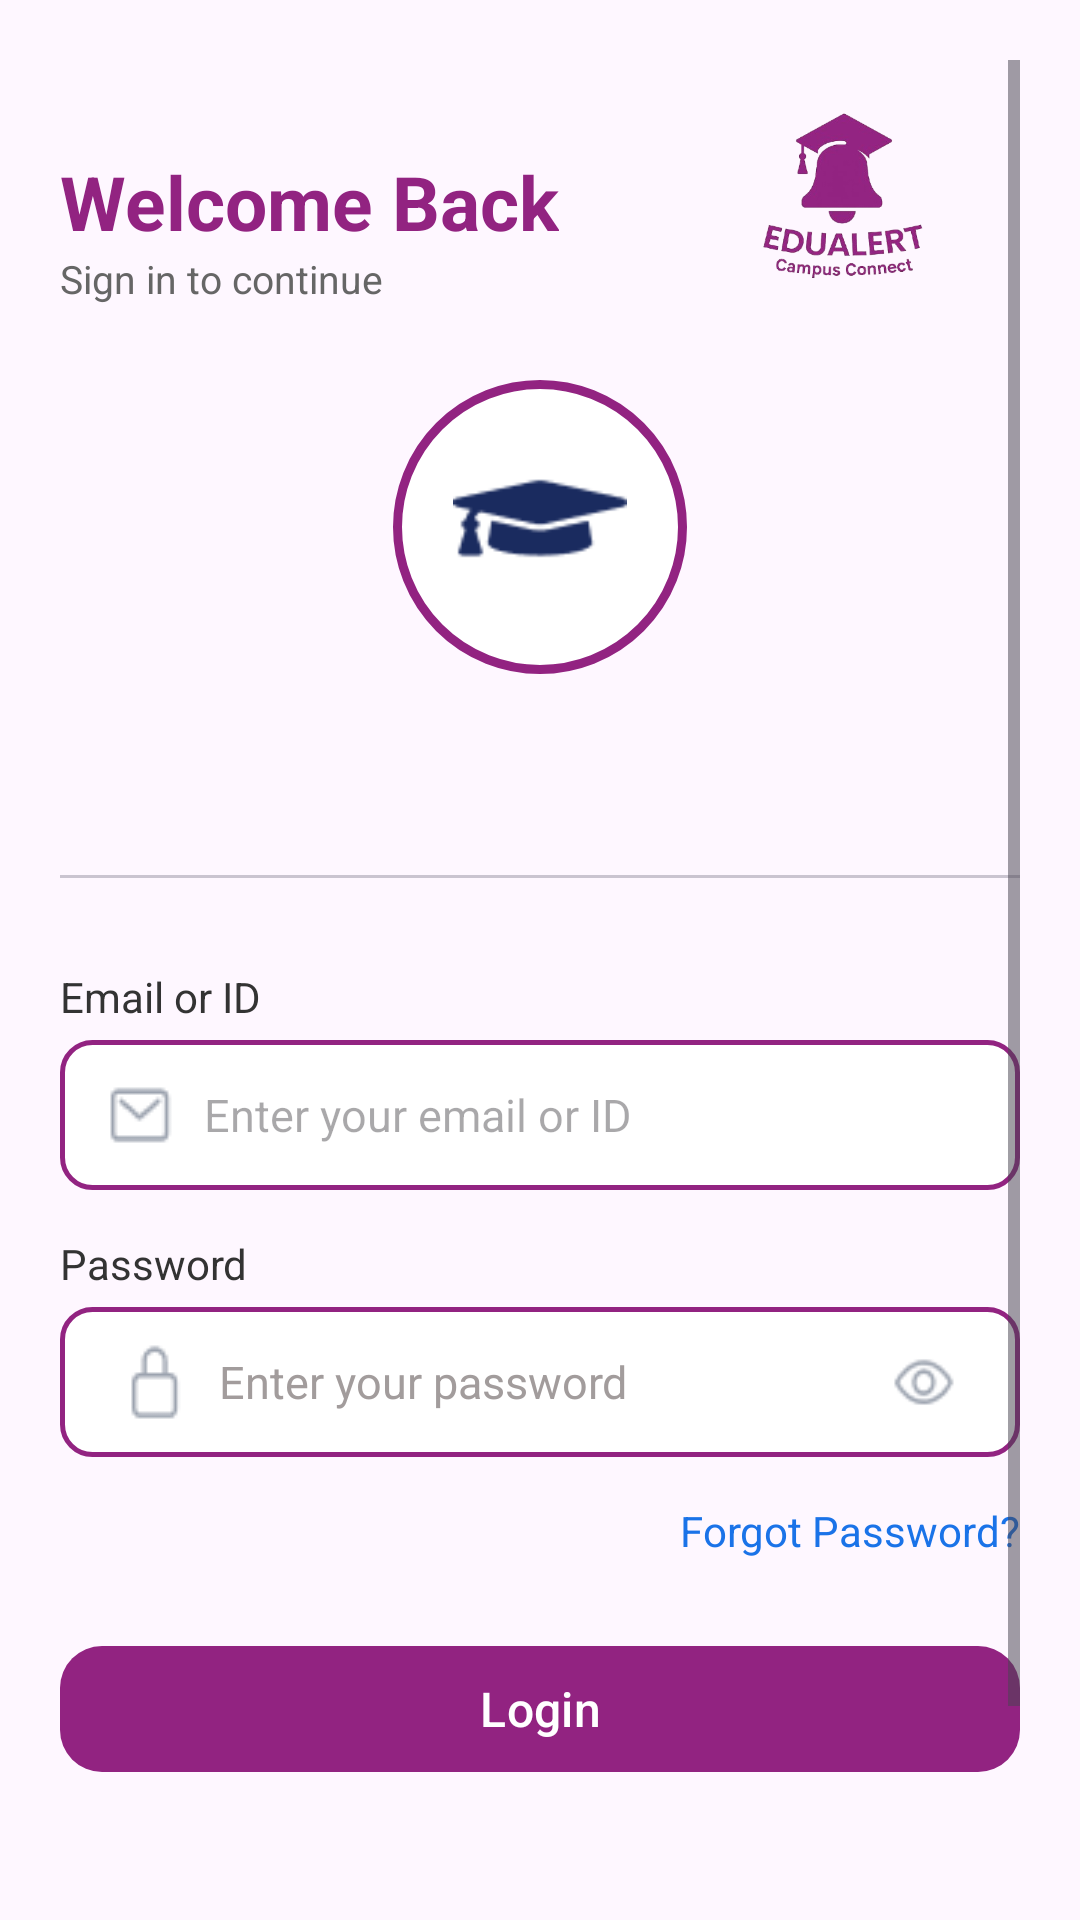

Point at icon controls on the screen. Image size 1080px x 1920px, points as (x,y).
Role Icon: (540,527)
Toggle Password Visibility: (923,1382)
